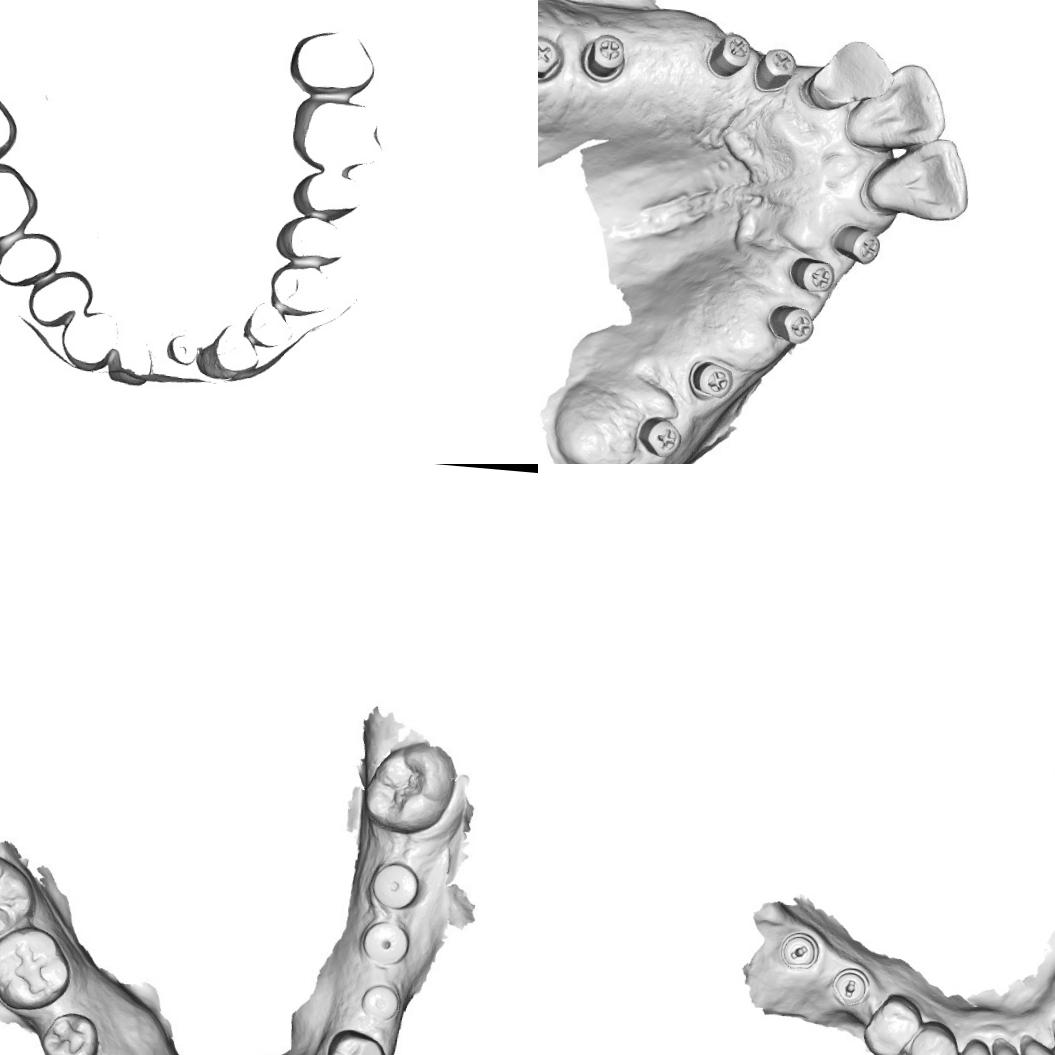canine: (950, 1035, 1000, 1055)
implant: (368, 859, 428, 915), (358, 912, 413, 972), (354, 979, 408, 1026)
implant_minus: (777, 929, 822, 971), (830, 965, 872, 1006)
implant_plus: (680, 349, 745, 410), (743, 40, 801, 98), (704, 24, 756, 82), (579, 29, 630, 88), (766, 296, 818, 352), (783, 248, 837, 300), (636, 411, 684, 463), (830, 219, 880, 266), (538, 29, 568, 87)
incisor: (846, 61, 952, 148), (862, 137, 970, 220), (813, 38, 892, 112)
molar: (357, 738, 463, 841), (0, 922, 76, 1015), (0, 847, 38, 943)
premolar: (860, 989, 923, 1055), (35, 1006, 99, 1055), (905, 1018, 960, 1055), (322, 1026, 386, 1055)
